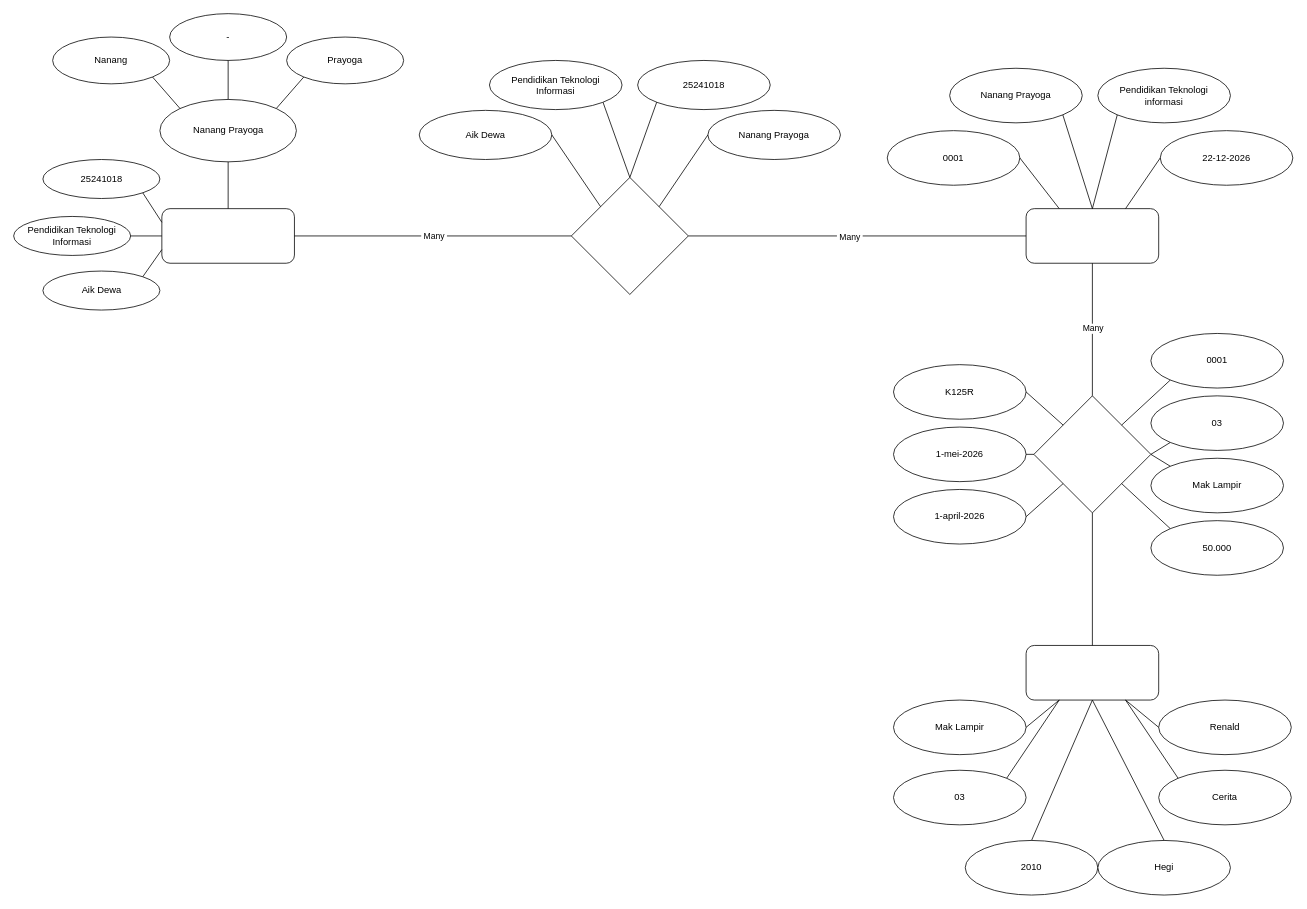
Some shapes in this 1307 by 909 pixel diagram are drawn without their labels. The centre of each missing label's shape, as x and y in pixels:
"Anggota Perpustakaan" belongs at (x=1092, y=235).
"Buku" belongs at (x=1092, y=672).
"Mahasiswa" belongs at (x=227, y=235).
"Memimjam" belongs at (x=1092, y=454).
"Mendaftar" belongs at (x=629, y=235).
